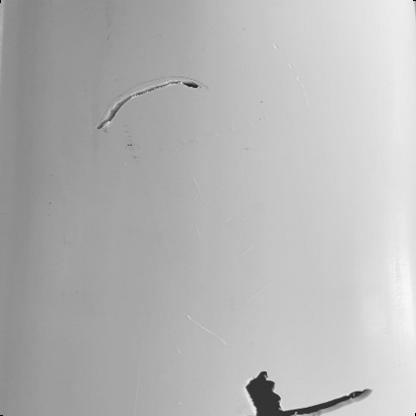fengxi: (96, 78, 200, 129), (281, 387, 373, 416)
kongdong: (246, 369, 284, 416)
